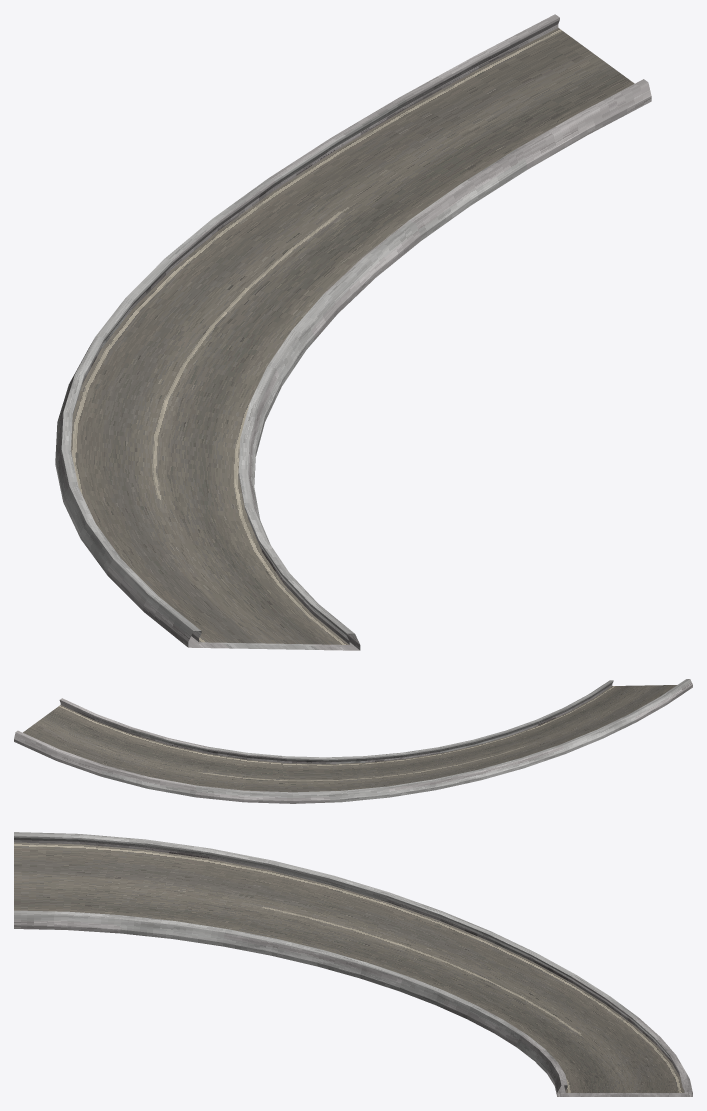
Rendered from turn-right5x5.glb.
The picture shows the model from 3 angles, top to bottom: view 1: azimuth 30°, elevation 25°; view 2: azimuth 150°, elevation 25°; view 3: azimuth 270°, elevation 25°; orthographic projection. The views are drawn at different scales.
Parts seen in each view (by area): view 1: road-Turn-HalfBankedRight-BiSlopeUp-Up2-Right-Size5; view 2: road-Turn-HalfBankedRight-BiSlopeUp-Up2-Right-Size5; view 3: road-Turn-HalfBankedRight-BiSlopeUp-Up2-Right-Size5.
Boxes of the visible parts, x1,y1,x2,y2 form: road-Turn-HalfBankedRight-BiSlopeUp-Up2-Right-Size5: [55, 14, 651, 650]; road-Turn-HalfBankedRight-BiSlopeUp-Up2-Right-Size5: [14, 679, 692, 803]; road-Turn-HalfBankedRight-BiSlopeUp-Up2-Right-Size5: [14, 832, 692, 1096].
Size of the model in its own units: 5 by 0.595 by 5.
2 materials, 2 textured.
